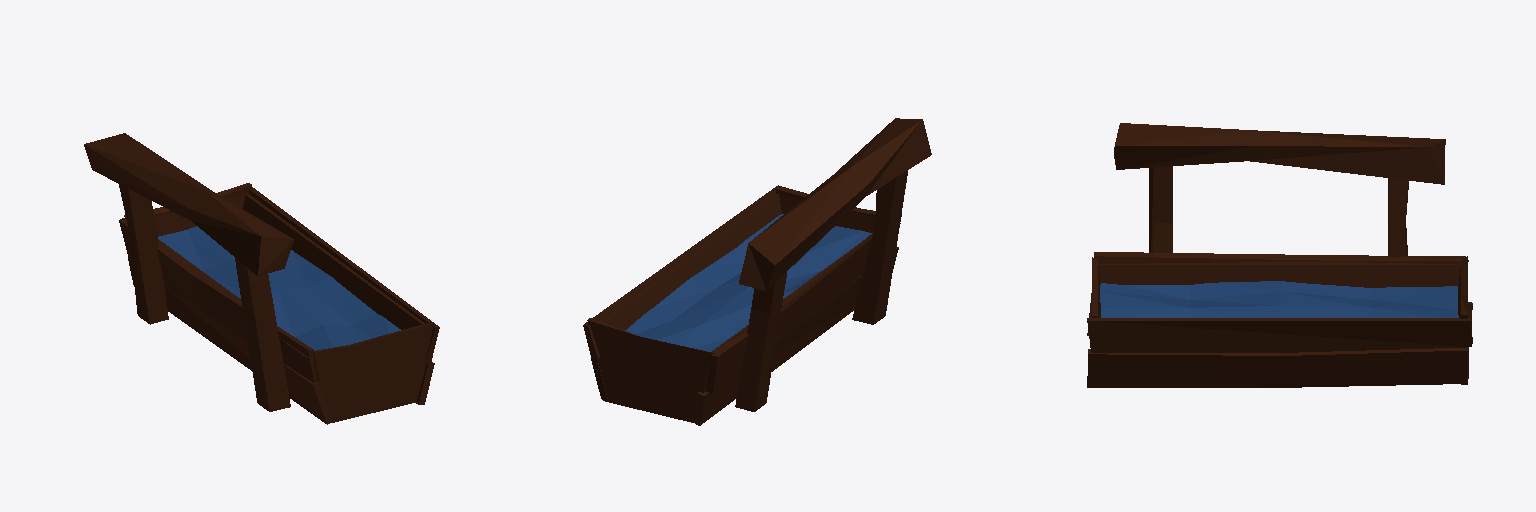
Rendered from wood_water_trough.obj.
3 renders of one model, left to right at view 1: azimuth 30°, elevation 25°; view 2: azimuth 150°, elevation 25°; view 3: azimuth 270°, elevation 25°, orthographic.
Visible parts, largest first — view 1: wood_water_trough_Cube; view 2: wood_water_trough_Cube; view 3: wood_water_trough_Cube.
Part boxes in pixels (x1,y1,x2,y2): wood_water_trough_Cube: (84, 133, 439, 424); wood_water_trough_Cube: (583, 118, 931, 425); wood_water_trough_Cube: (1087, 123, 1472, 387).
Bounding box in the file's own units: 2.22 × 2.29 × 4.14.